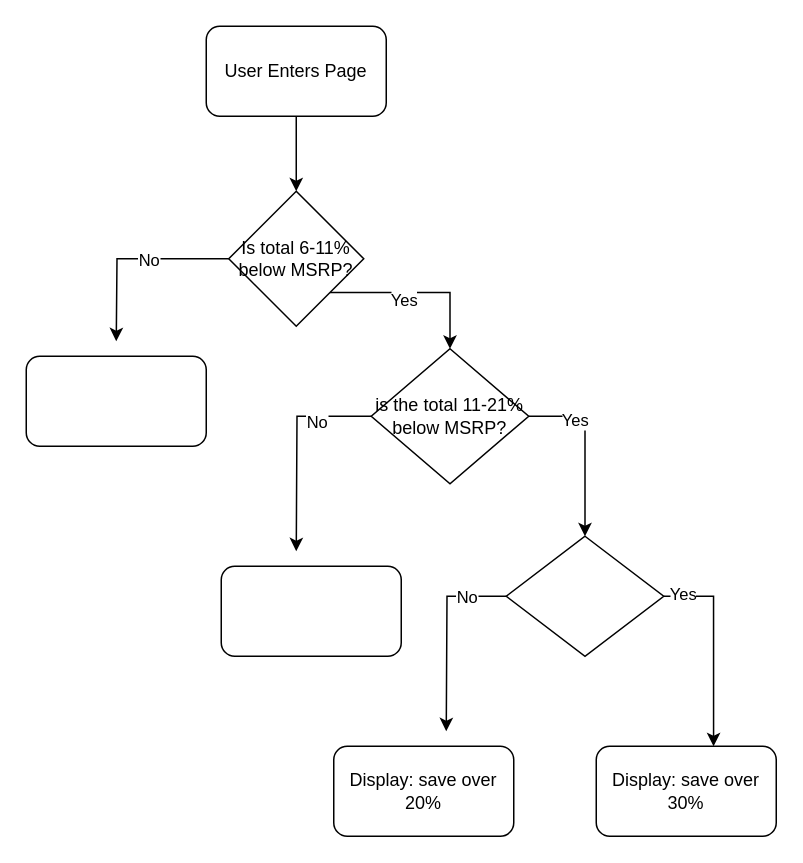
Image size: 803x863. Some labels were removed from this diagram. The shapes that lost their labels are listed below. From the top down, each one's centre as x and y in pixels, then its label:
point 115,400: Display: save over 5%
point 310,610: Display: save over 10%
point 584,595: Is total 21-31% below MSRP?
